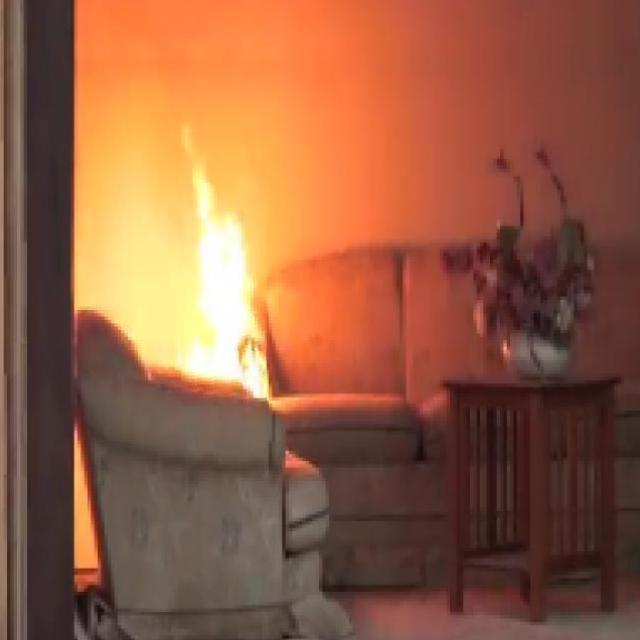smoke: (174, 127, 267, 406)
